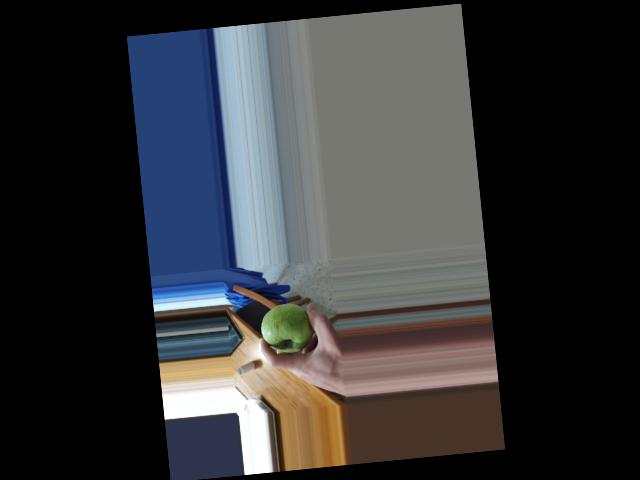apple: (256, 300, 316, 356)
